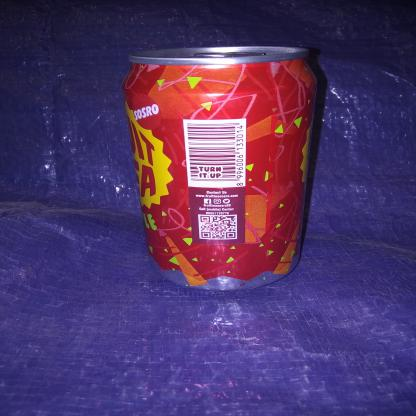mouse: (120, 42, 325, 292)
